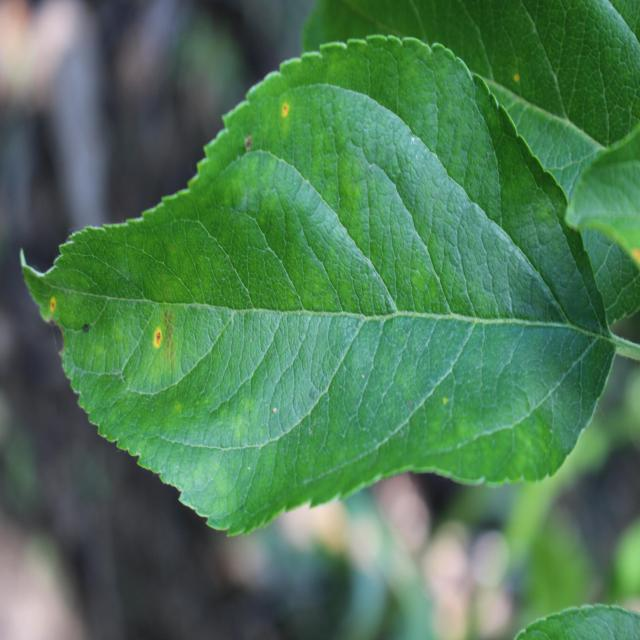Rust: (35, 256, 69, 336), (134, 316, 172, 376), (277, 74, 305, 141)
